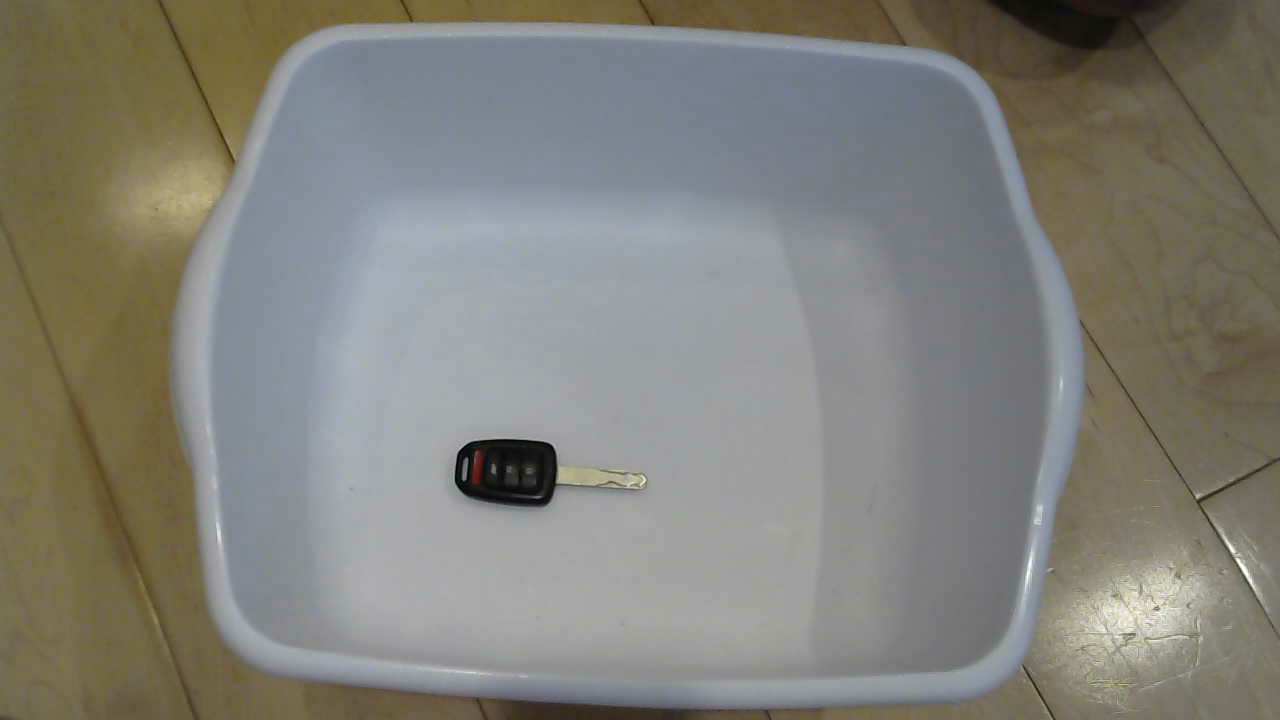key: (459, 435, 685, 531)
